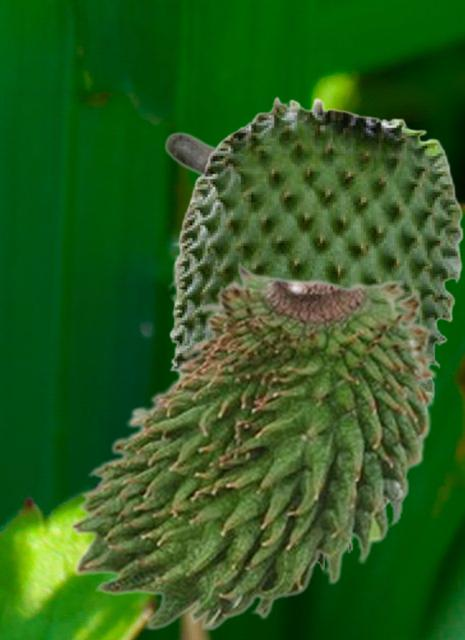guyabano: (168, 96, 463, 569), (67, 260, 437, 630), (161, 131, 438, 324)
